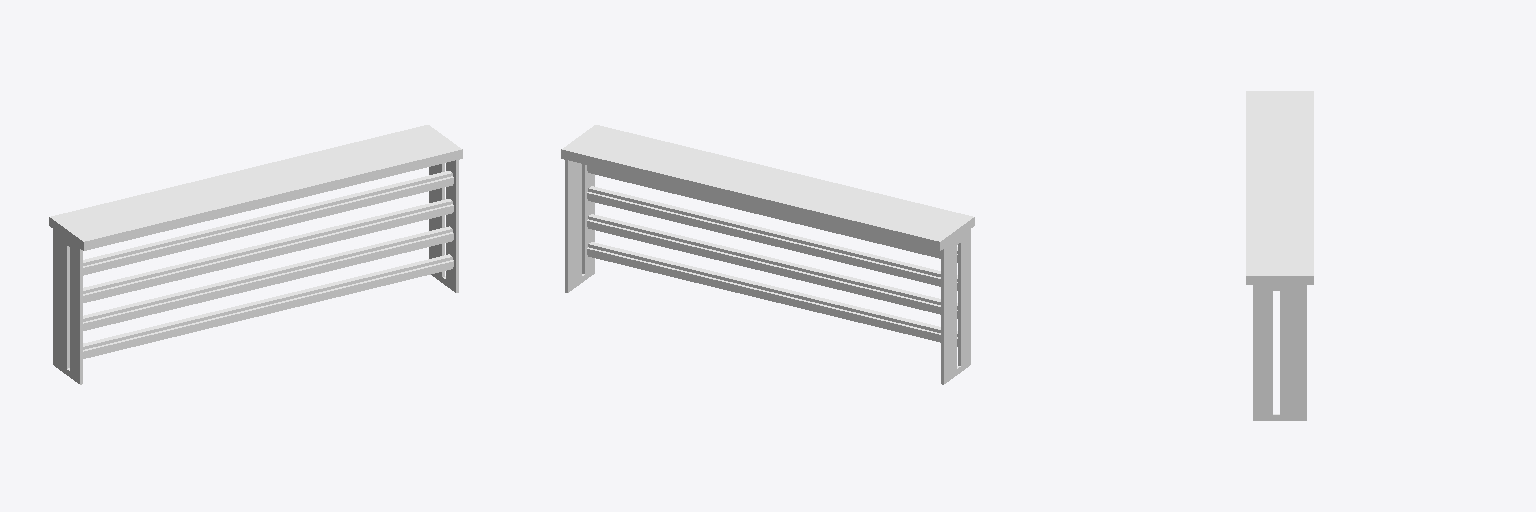
The model's file is CercaDeMetal-meio.obj.
The picture shows the model from 3 angles: view 1: azimuth 30°, elevation 25°; view 2: azimuth 150°, elevation 25°; view 3: azimuth 270°, elevation 25°; orthographic projection.
Parts seen in each view (by area): view 1: object 1; view 2: object 1; view 3: object 1.
Part boxes in pixels (left/top/right/bottom): object 1: left=49, top=125, right=462, bottom=384; object 1: left=561, top=125, right=974, bottom=384; object 1: left=1246, top=91, right=1313, bottom=420.
Size of the model in its own units: 12.8 by 4.7 by 2.